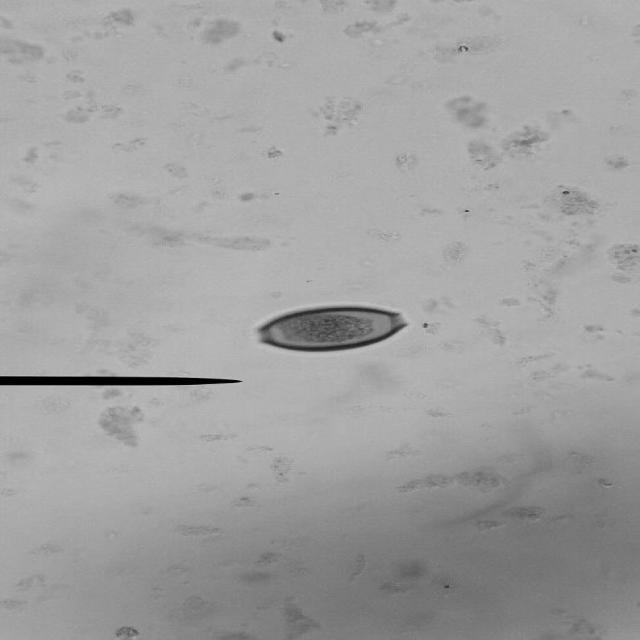Trichuris Trichiura: (248, 302, 410, 358)
